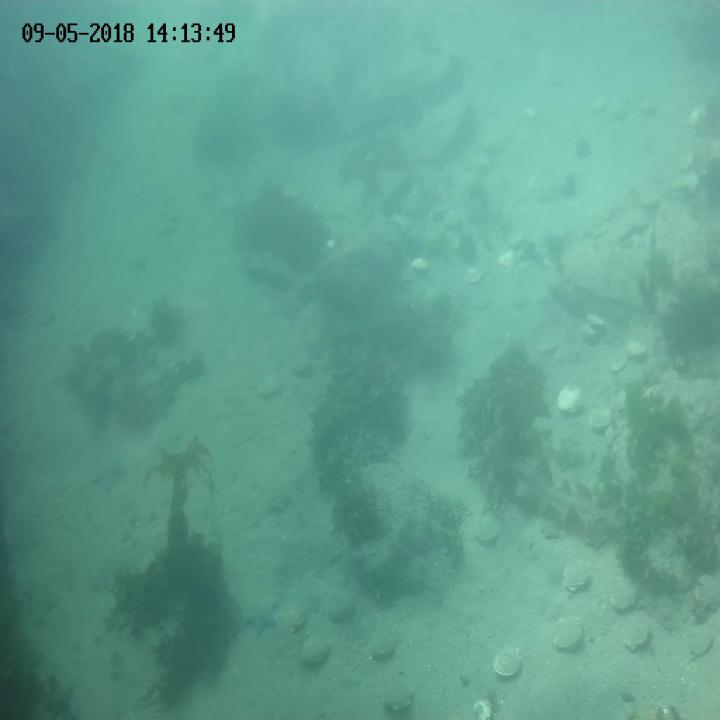scallop: (609, 573, 642, 614), (382, 678, 417, 716), (493, 638, 523, 681), (550, 616, 584, 653), (693, 570, 720, 616), (561, 556, 594, 593), (622, 614, 651, 655), (301, 631, 333, 663), (326, 588, 356, 620), (556, 380, 584, 414), (266, 480, 292, 512), (537, 512, 565, 540), (587, 405, 615, 433), (284, 601, 310, 630), (368, 635, 397, 658), (474, 521, 499, 547), (495, 244, 517, 271), (624, 336, 647, 361), (255, 377, 281, 399), (607, 353, 631, 375), (471, 696, 492, 720), (691, 630, 712, 652), (463, 266, 485, 286), (408, 255, 430, 274), (584, 310, 604, 326)
starfish: (242, 594, 280, 638), (87, 454, 124, 495), (44, 674, 77, 716)
